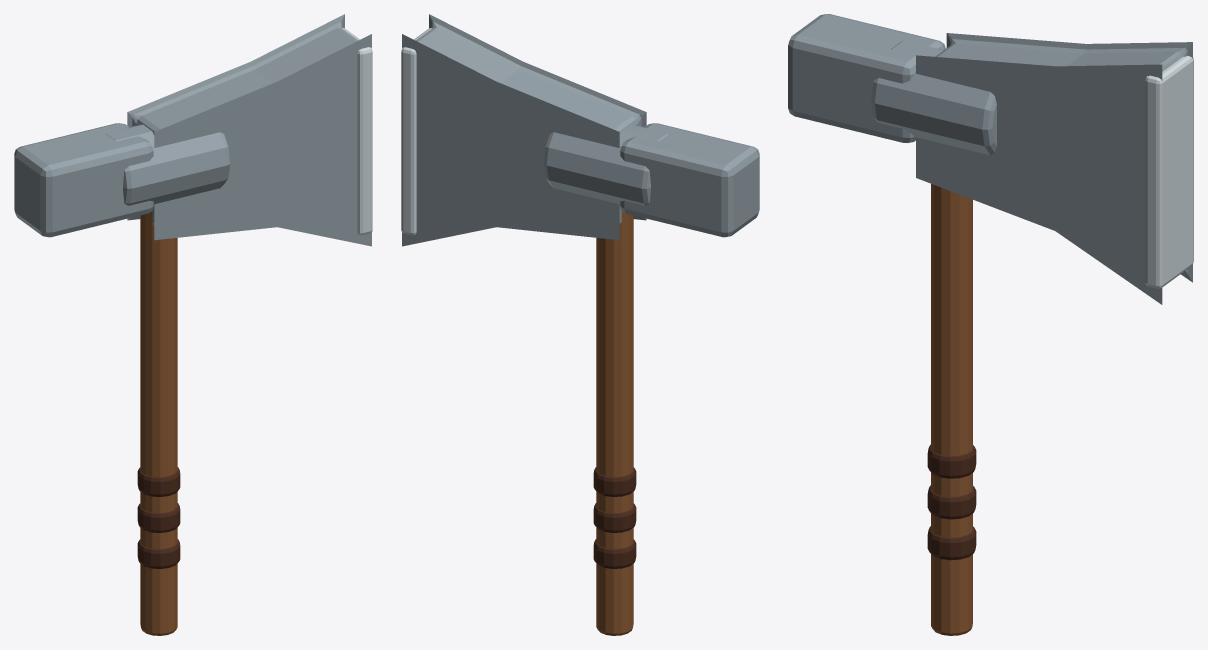
The model's file is axe_v2.glb.
3 views of the same model, side by side, from view 1: azimuth 30°, elevation 25°; view 2: azimuth 150°, elevation 25°; view 3: azimuth 330°, elevation 25° (orthographic). The views are drawn at different scales.
Parts seen in each view (by area): view 1: Connected forged axe blade, Continuous ash haft, Balanced rear poll, Steel head eye, Hardened cutting edge, Leather wrap, Leather wrap.001, Leather wrap.002; view 2: Connected forged axe blade, Continuous ash haft, Balanced rear poll, Steel head eye, Hardened cutting edge, Leather wrap, Leather wrap.001, Leather wrap.002; view 3: Connected forged axe blade, Continuous ash haft, Balanced rear poll, Hardened cutting edge, Steel head eye, Leather wrap, Leather wrap.001, Leather wrap.002.
Part boxes in pixels (bbox=[...]): Connected forged axe blade: bbox=[127, 14, 371, 246]; Continuous ash haft: bbox=[140, 211, 177, 635]; Balanced rear poll: bbox=[14, 123, 153, 237]; Steel head eye: bbox=[105, 124, 230, 205]; Hardened cutting edge: bbox=[342, 28, 372, 235]; Leather wrap: bbox=[137, 539, 180, 568]; Leather wrap.001: bbox=[137, 503, 180, 532]; Leather wrap.002: bbox=[137, 467, 180, 496]; Connected forged axe blade: bbox=[402, 14, 646, 246]; Continuous ash haft: bbox=[596, 211, 633, 635]; Balanced rear poll: bbox=[620, 123, 759, 237]; Steel head eye: bbox=[543, 124, 668, 205]; Hardened cutting edge: bbox=[401, 28, 431, 235]; Leather wrap: bbox=[593, 539, 636, 568]; Leather wrap.001: bbox=[593, 503, 636, 532]; Leather wrap.002: bbox=[593, 467, 636, 496]; Connected forged axe blade: bbox=[916, 33, 1192, 304]; Continuous ash haft: bbox=[931, 184, 972, 635]; Balanced rear poll: bbox=[788, 14, 945, 143]; Hardened cutting edge: bbox=[1145, 56, 1193, 288]; Steel head eye: bbox=[871, 41, 996, 155]; Leather wrap: bbox=[927, 526, 976, 560]; Leather wrap.001: bbox=[927, 485, 976, 519]; Leather wrap.002: bbox=[927, 444, 976, 478].
Bounding box in the file's own units: 1.06 × 1.7 × 0.23.
